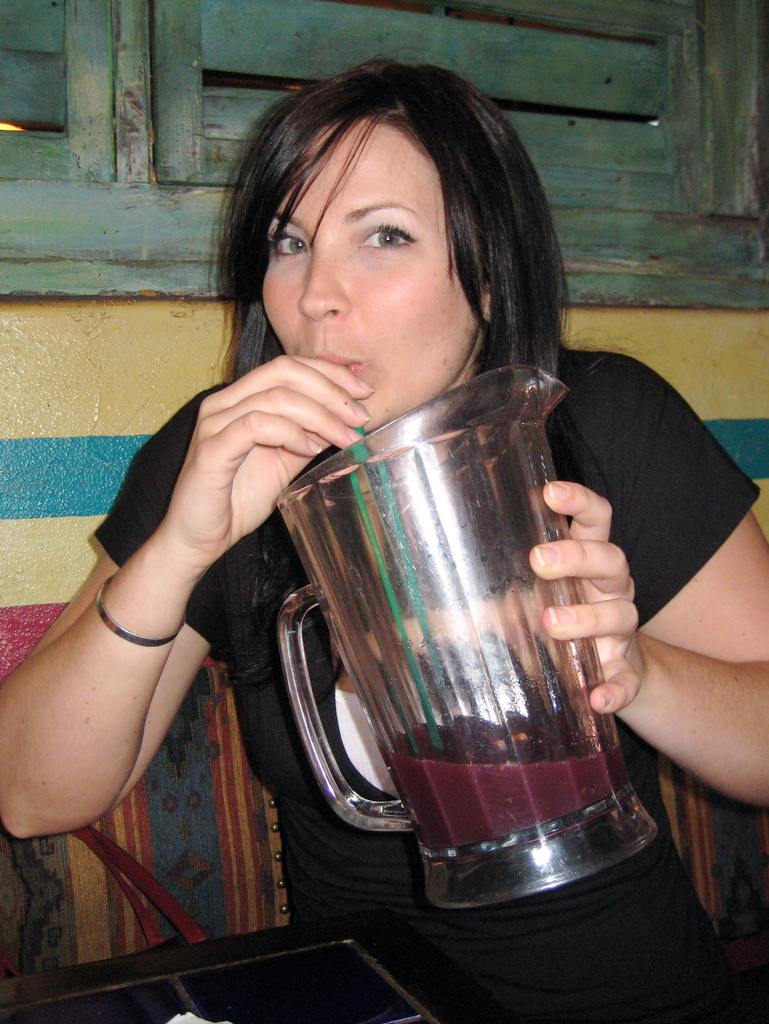face: (261, 119, 458, 436)
